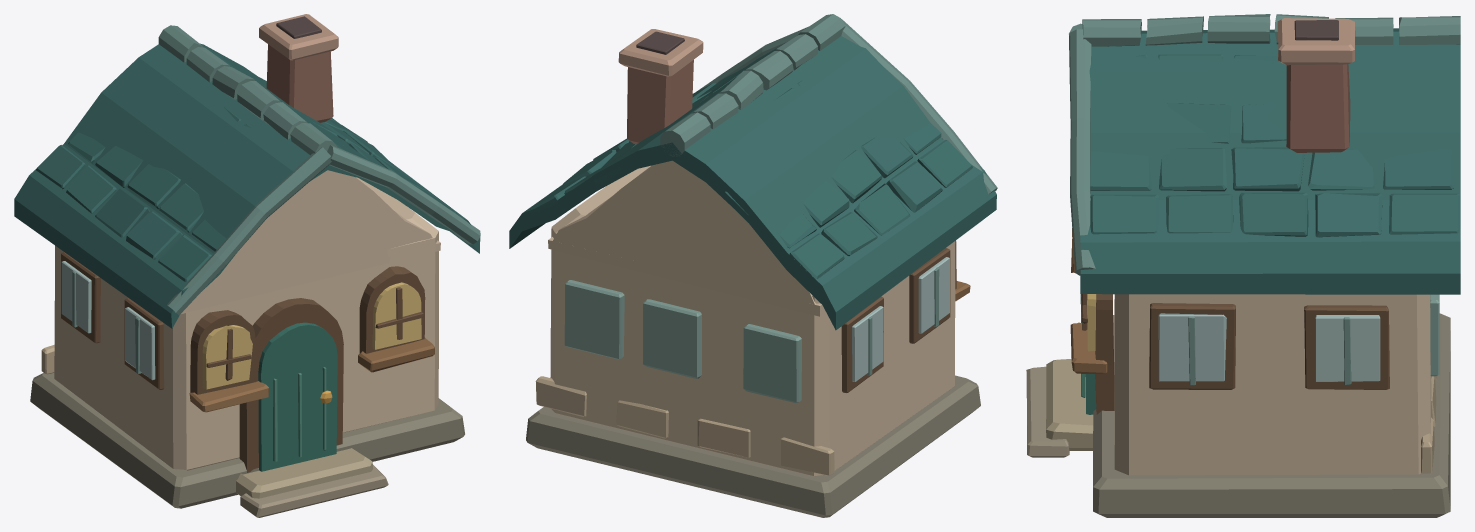
File: cottage_sage.glb
3 renders of one model, left to right at view 1: azimuth 30°, elevation 25°; view 2: azimuth 150°, elevation 25°; view 3: azimuth 270°, elevation 25°, orthographic. The views are drawn at different scales.
Visible parts, largest first — view 1: cottage_sage; view 2: cottage_sage; view 3: cottage_sage.
Boxes of the visible parts, left/top/right/bottom form: cottage_sage: left=14, top=14, right=480, bottom=517; cottage_sage: left=509, top=14, right=997, bottom=517; cottage_sage: left=1026, top=14, right=1460, bottom=517.
Bounding box in the file's own units: 2.26 × 2.54 × 2.23.
